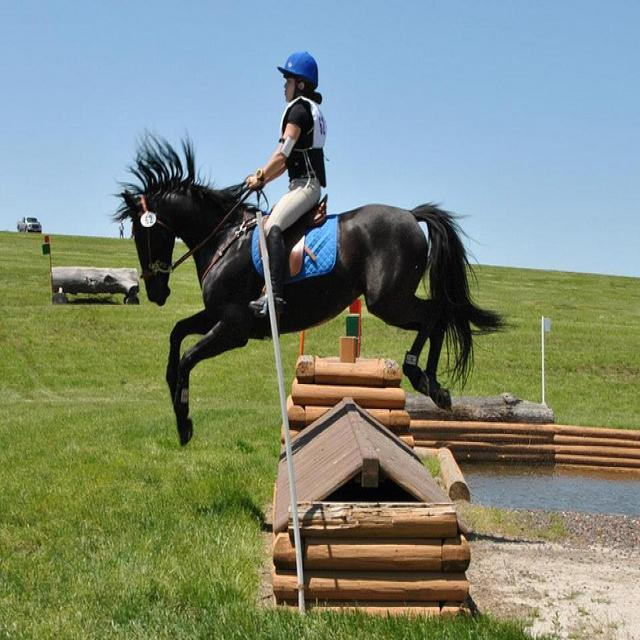Vehicle: (17, 216, 44, 234)
